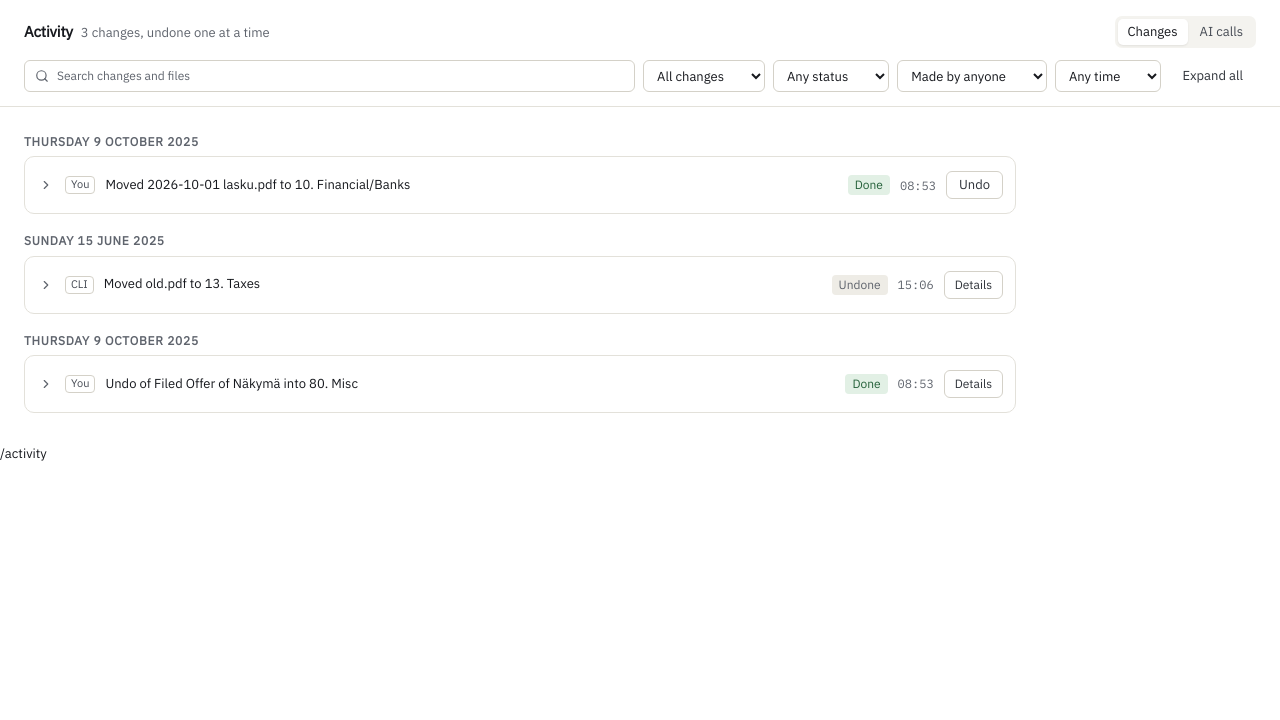
Activity › lists batches with their ops; Undo posts to the batch; undone batches cannot be undone
expect the element named "Batch b1" is shown: met, box [37, 171, 1003, 199]
Click the button "Expand all": (1213,76) [1169, 60, 1256, 92]
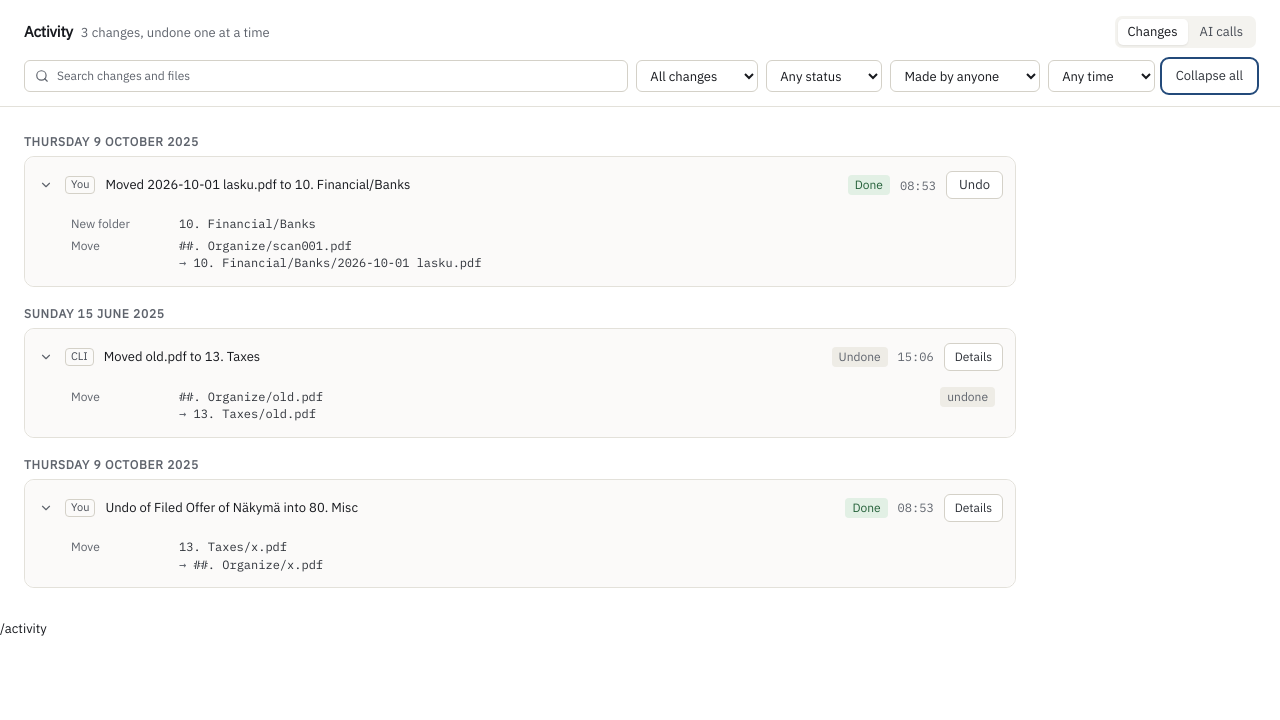
expect the text "CLI" is shown: met, box [65, 348, 94, 366]
expect the text "10. Financial/Banks/2026-10-01 lasku.pdf" is shown: met, box [193, 255, 481, 270]
Click the button "Undo": (974,185) [946, 171, 1003, 199]
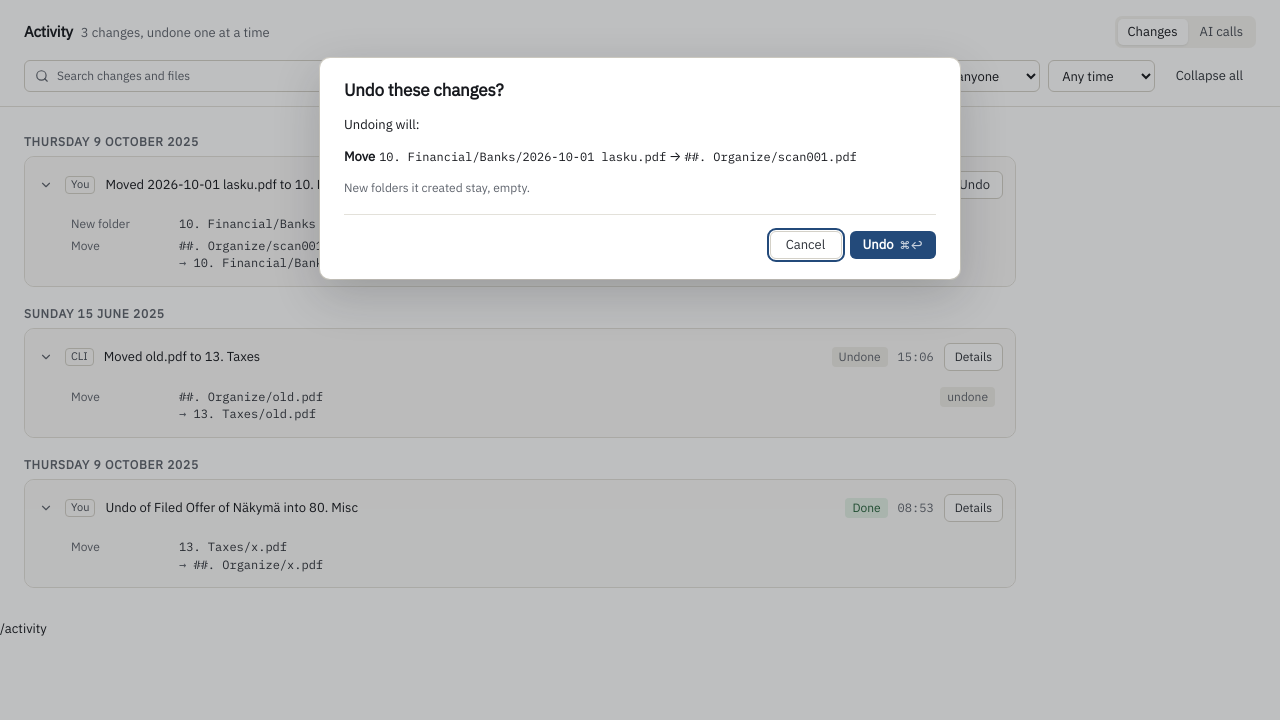
expect the text "Undoing will:" is shown: met, box [344, 116, 420, 133]
expect the button "Undo⌘↩" is enabled: met
Click the button "Undo⌘↩": (893,245) [850, 231, 936, 259]
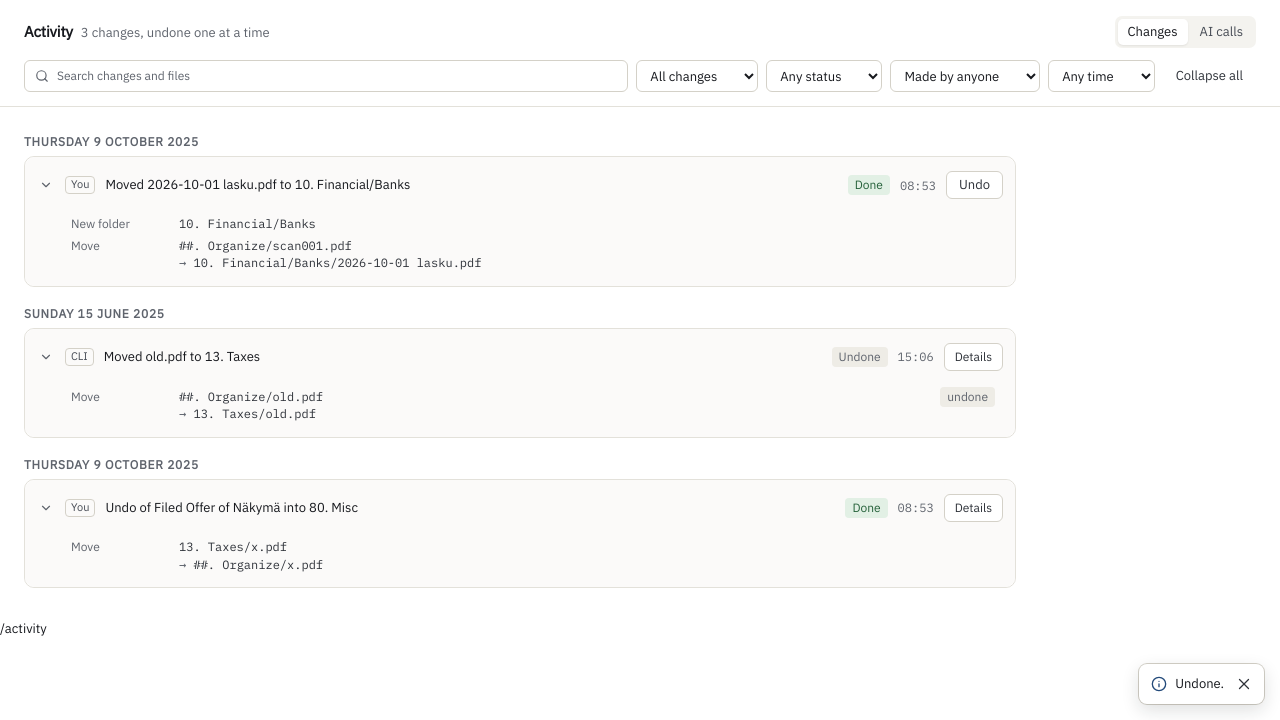
expect the text "Undone." is shown: met, box [1175, 675, 1224, 693]
